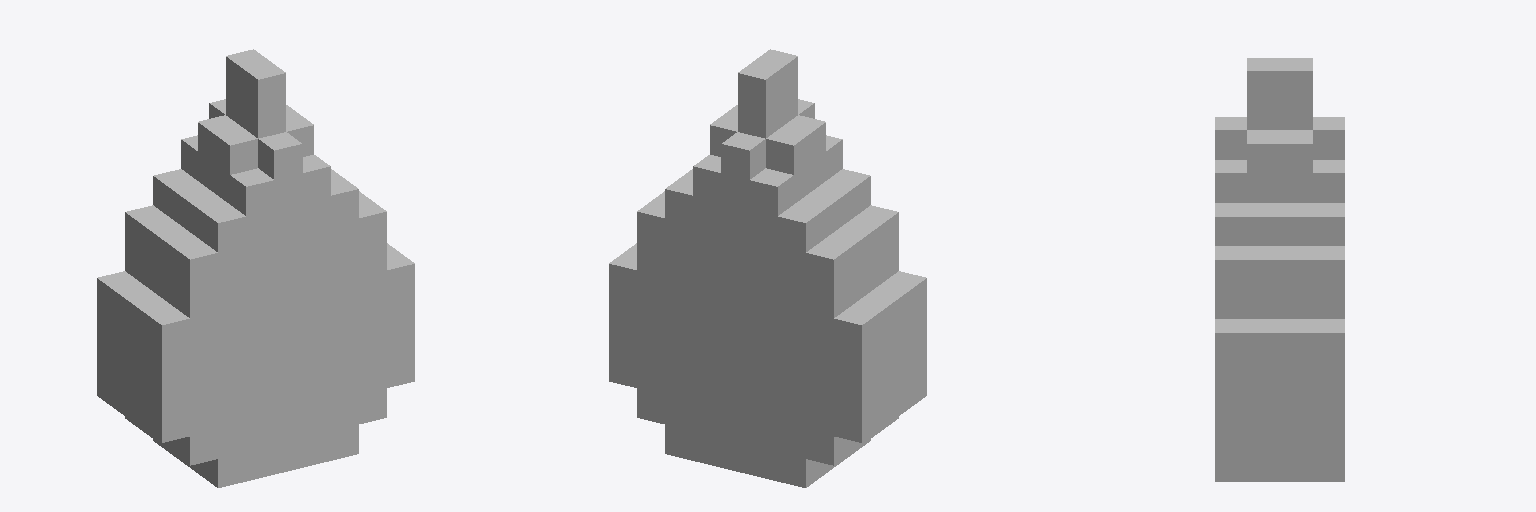
The model's file is drop of blood.obj.
3 views of the same model, side by side, from view 1: azimuth 30°, elevation 25°; view 2: azimuth 150°, elevation 25°; view 3: azimuth 270°, elevation 25° (orthographic).
Visible parts, largest first — view 1: object 1; view 2: object 1; view 3: object 1.
Part boxes in pixels (bbox=[...]): object 1: bbox=[97, 49, 414, 487]; object 1: bbox=[609, 49, 926, 487]; object 1: bbox=[1215, 58, 1344, 481].
Size of the model in its own units: 0.9 by 1.3 by 0.4.